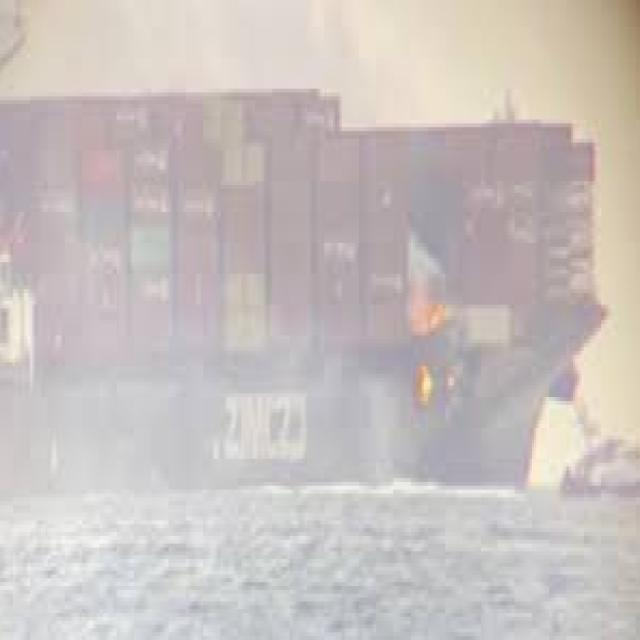cargoship: (0, 73, 603, 486)
